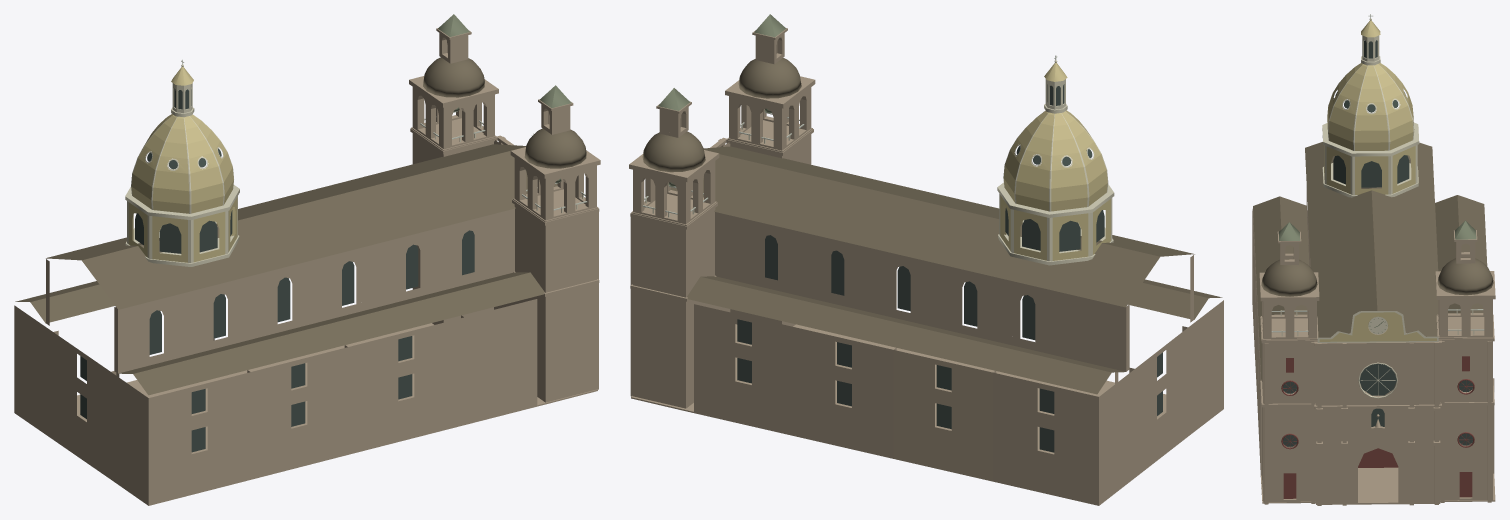
Rendered from san-pedro-claver-cartagena-far.glb.
3 renders of one model, left to right at view 1: azimuth 30°, elevation 25°; view 2: azimuth 150°, elevation 25°; view 3: azimuth 270°, elevation 25°, orthographic. The views are drawn at different scales.
Parts seen in each view (by area): view 1: san-pedro-claver-cartagena-0-stone, san-pedro-claver-cartagena-0-roof, san-pedro-claver-cartagena-0-cream, san-pedro-claver-cartagena-0-glass, san-pedro-claver-cartagena-0-trim, san-pedro-claver-cartagena-0-metal; view 2: san-pedro-claver-cartagena-0-stone, san-pedro-claver-cartagena-0-roof, san-pedro-claver-cartagena-0-cream, san-pedro-claver-cartagena-0-glass, san-pedro-claver-cartagena-0-trim, san-pedro-claver-cartagena-0-metal; view 3: san-pedro-claver-cartagena-0-stone, san-pedro-claver-cartagena-0-roof, san-pedro-claver-cartagena-0-cream, san-pedro-claver-cartagena-0-trim, san-pedro-claver-cartagena-0-glass, san-pedro-claver-cartagena-0-wood, san-pedro-claver-cartagena-0-metal.
Part boxes in pixels (box(x1,y1,x2,y2)): san-pedro-claver-cartagena-0-stone: box(14, 28, 600, 505); san-pedro-claver-cartagena-0-roof: box(15, 57, 586, 395); san-pedro-claver-cartagena-0-cream: box(128, 67, 237, 262); san-pedro-claver-cartagena-0-glass: box(80, 88, 474, 452); san-pedro-claver-cartagena-0-trim: box(125, 64, 583, 266); san-pedro-claver-cartagena-0-metal: box(438, 14, 571, 182); san-pedro-claver-cartagena-0-stone: box(629, 28, 1223, 505); san-pedro-claver-cartagena-0-roof: box(642, 57, 1222, 394); san-pedro-claver-cartagena-0-cream: box(1000, 62, 1110, 260); san-pedro-claver-cartagena-0-glass: box(737, 84, 1162, 452); san-pedro-claver-cartagena-0-trim: box(645, 60, 1114, 265); san-pedro-claver-cartagena-0-metal: box(658, 14, 785, 186); san-pedro-claver-cartagena-0-stone: box(1252, 188, 1495, 505); san-pedro-claver-cartagena-0-roof: box(1253, 142, 1493, 380); san-pedro-claver-cartagena-0-cream: box(1319, 20, 1436, 341); san-pedro-claver-cartagena-0-trim: box(1280, 18, 1474, 398); san-pedro-claver-cartagena-0-glass: box(1283, 40, 1473, 446); san-pedro-claver-cartagena-0-wood: box(1281, 356, 1474, 498); san-pedro-claver-cartagena-0-metal: box(1278, 220, 1476, 333).
Bounding box in the file's own units: 57.77 × 44 × 28.98.
